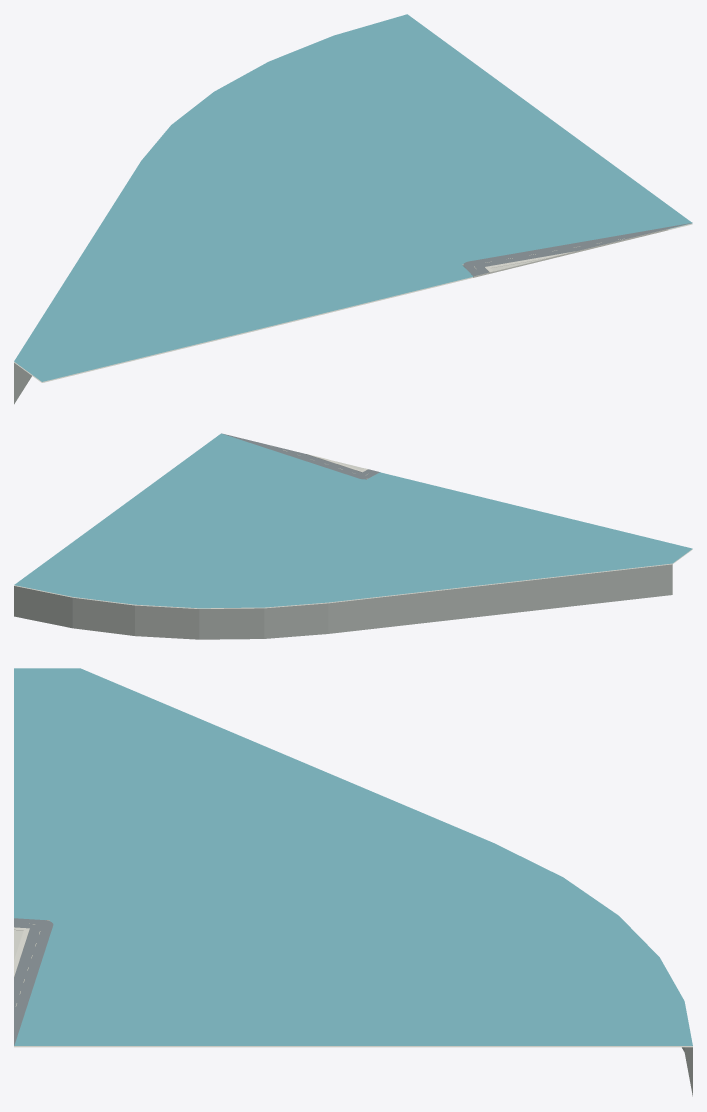
The picture shows the model from 3 angles, top to bottom: view 1: azimuth 30°, elevation 25°; view 2: azimuth 150°, elevation 25°; view 3: azimuth 270°, elevation 25°; orthographic projection. The views are drawn at different scales.
Parts seen in each view (by area): view 1: city; view 2: city; view 3: city.
Part boxes in pixels (x1,y1,x2,y2): city: [14, 14, 692, 404]; city: [14, 433, 692, 639]; city: [14, 668, 692, 1096].
Bounding box in the file's own units: 500 × 32.22 × 380.
